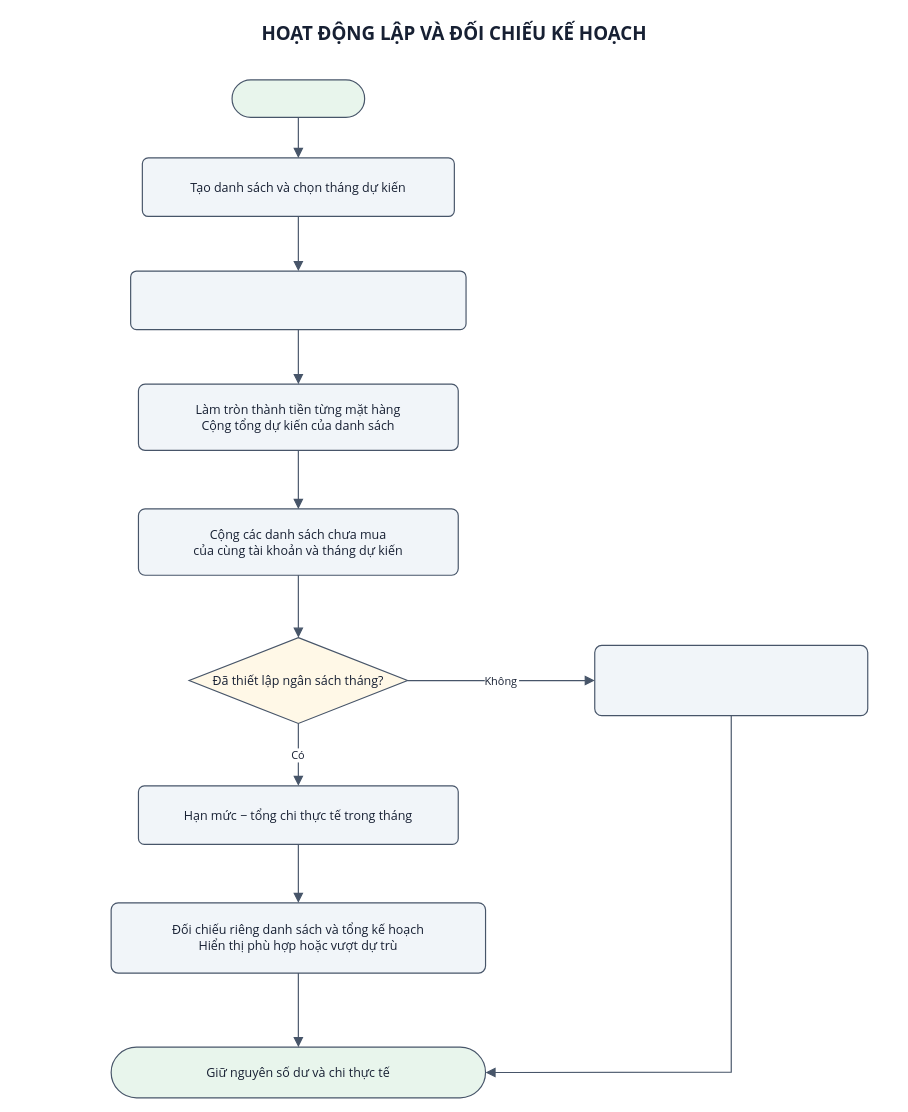
The diagram is 908 pixels wide and 1112 high, and some of its shapes have lost their labels. Each missing label, with the centre of its shape:
"Bắt đầu" belongs at pixel 298 98.
"Thêm / sửa mặt hàng khi danh sách chưa mua" belongs at pixel 298 300.
"Thông báo chưa thiết lập ngân sách" belongs at pixel 731 680.
